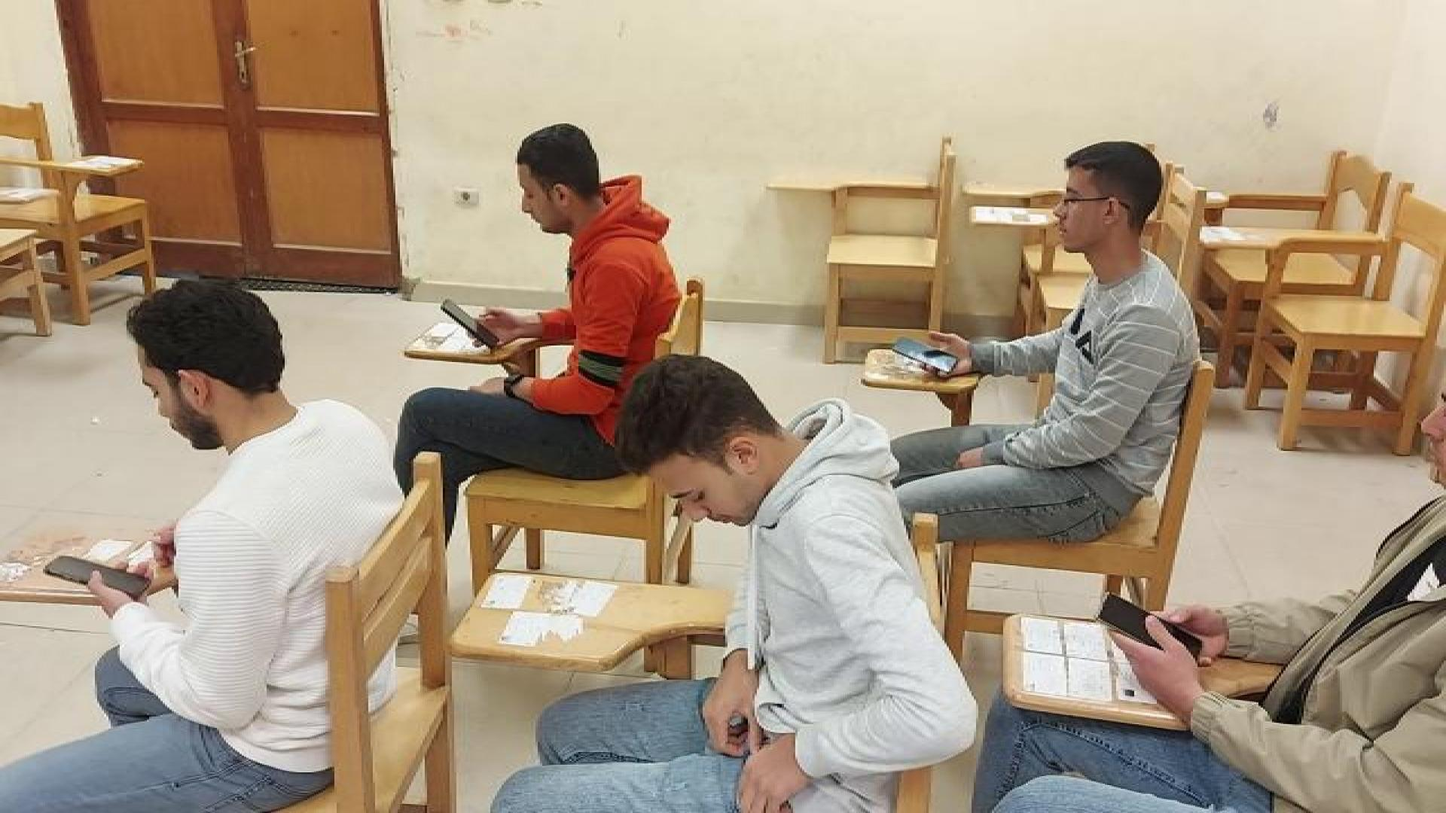phone: (1097, 589, 1210, 669), (43, 551, 151, 599), (430, 296, 507, 347), (889, 335, 964, 370)
